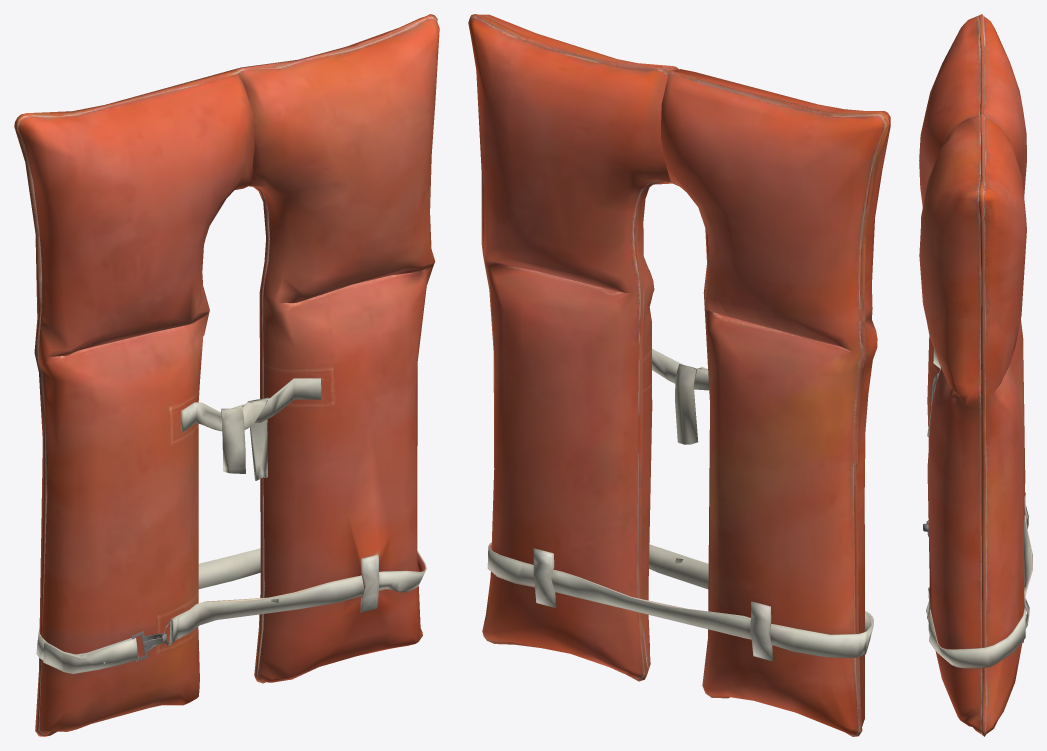
The model's file is life_jacket.glb.
The picture shows the model from 3 angles, left to right: view 1: azimuth 30°, elevation 25°; view 2: azimuth 150°, elevation 25°; view 3: azimuth 270°, elevation 25°; orthographic projection. The views are drawn at different scales.
Visible parts, largest first — view 1: life_jacket; view 2: life_jacket; view 3: life_jacket.
Boxes of the visible parts, x1,y1,x2,y2 form: life_jacket: (14, 14, 439, 736); life_jacket: (468, 14, 890, 736); life_jacket: (919, 14, 1032, 736).
Bounding box in the file's own units: 0.6954 × 0.9923 × 0.1834.
Materials: 1 (1 with a texture image).
